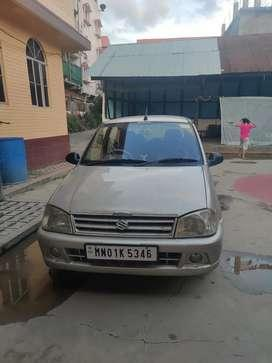MN01K5346: (84, 242, 156, 260)
